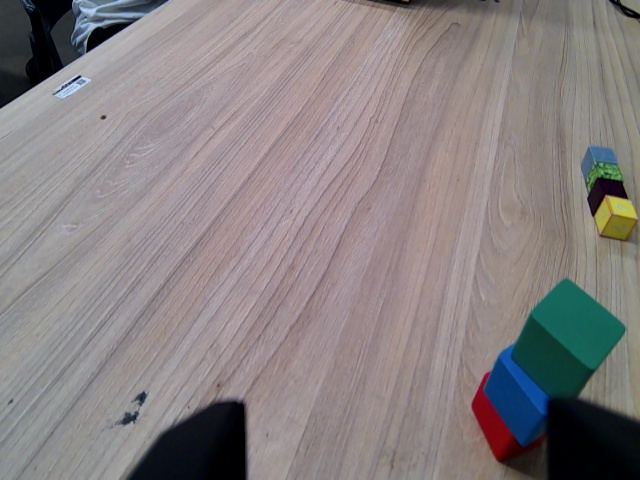brick: (585, 182, 630, 211)
grass: (584, 166, 623, 187)
lucky: (594, 202, 637, 236)
stone: (582, 147, 619, 175)
